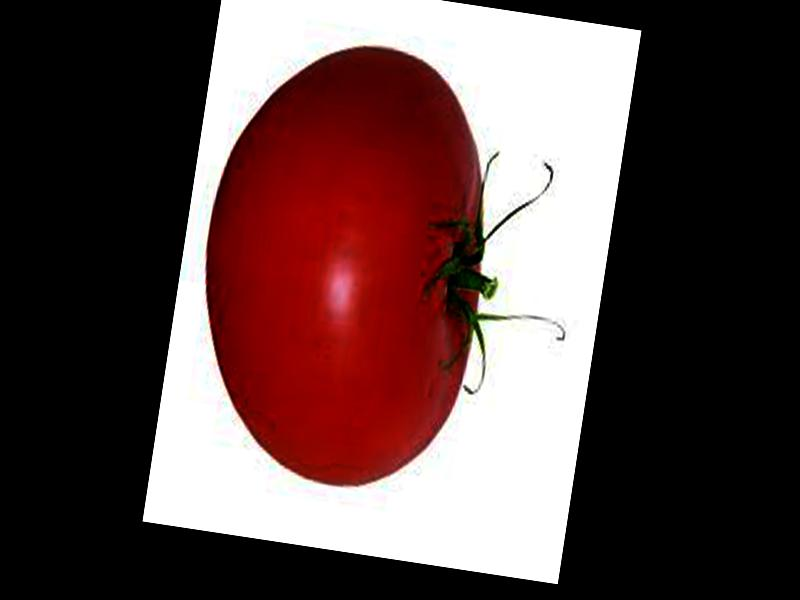Tomato: (176, 30, 512, 498)
